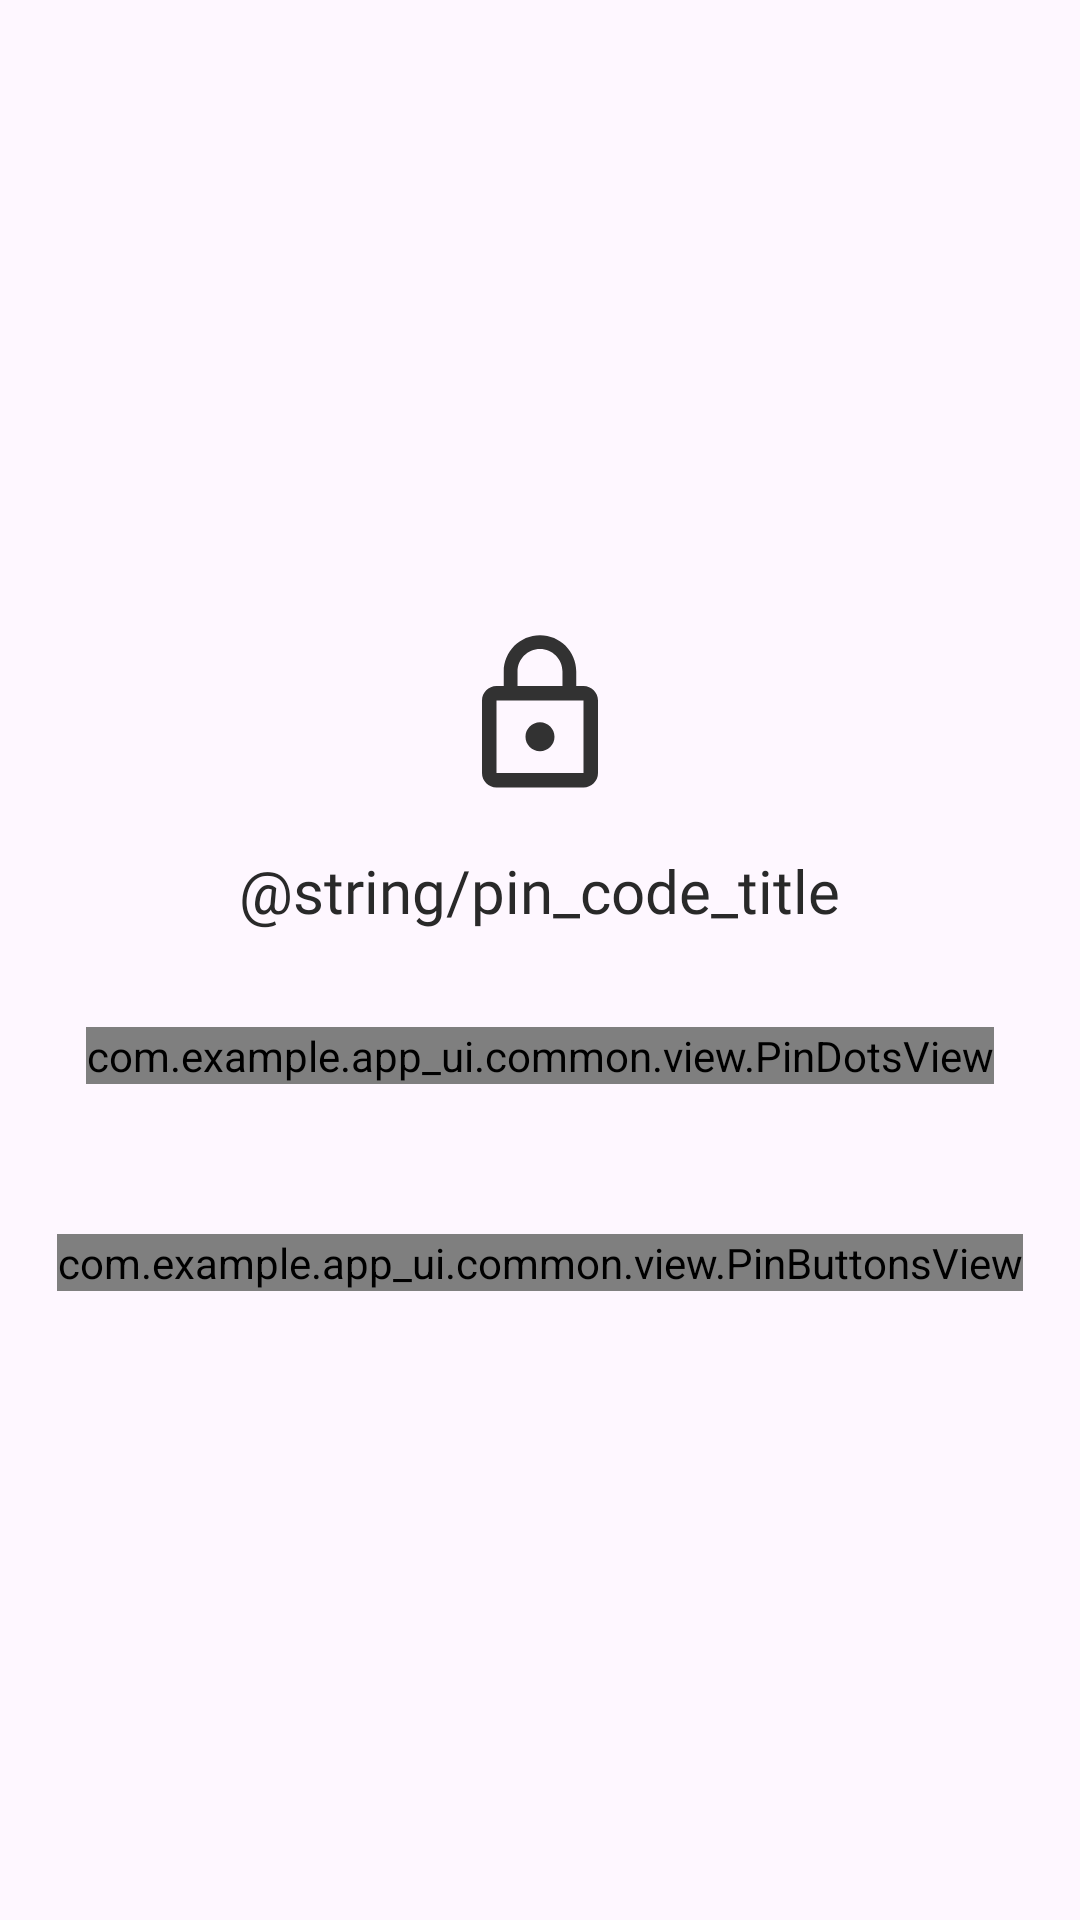

Screen size 1080*1920. Icon name, then its center in pixels as point (x, y):
lock: point (540, 711)
